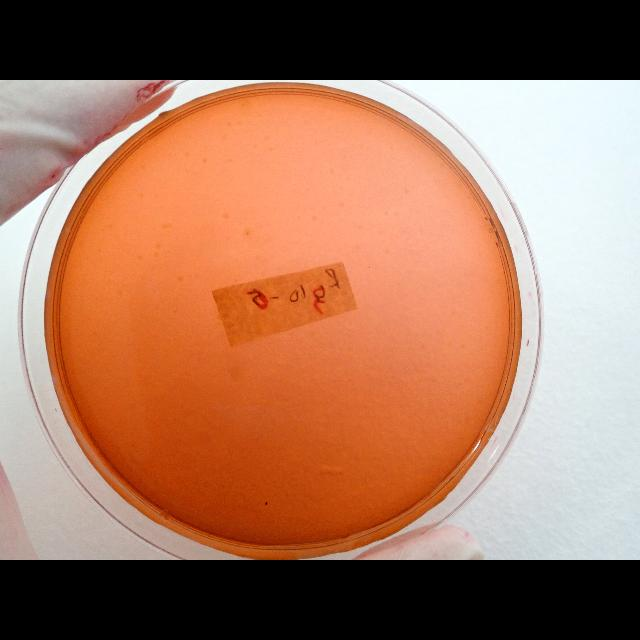colony: (264, 499, 270, 507)
